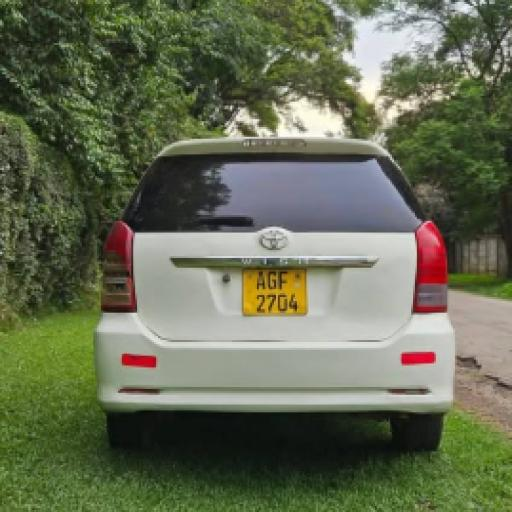number-plates: (242, 264, 304, 315)
